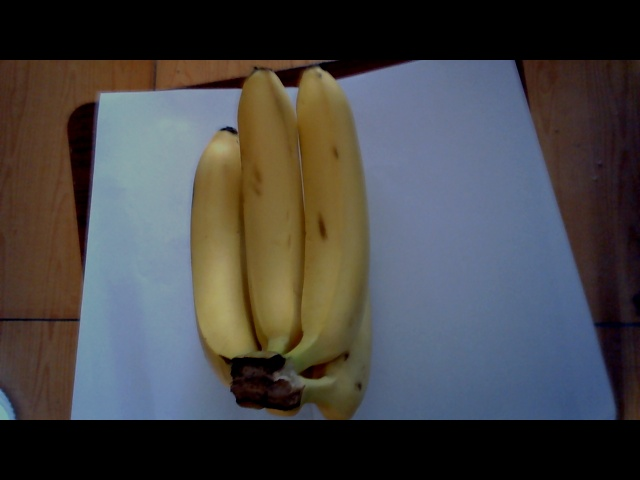banana: (196, 77, 396, 423)
